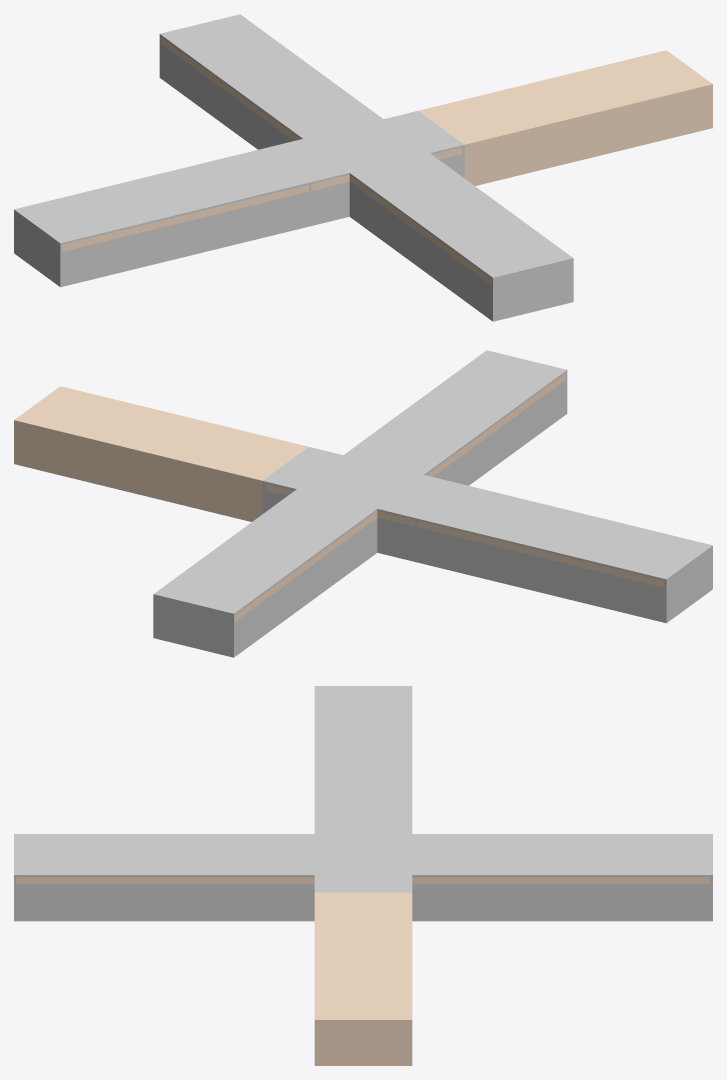
The model's file is PhaseMap.fbx.
3 views of the same model, one above another, from view 1: azimuth 30°, elevation 25°; view 2: azimuth 150°, elevation 25°; view 3: azimuth 270°, elevation 25° (orthographic). The views are drawn at different scales.
Parts seen in each view (by area): view 1: Group34, Group100, Group62, Group6, wall3, wall8, Group88, wall6, wall1, Group58, Group30, Group33 (+10 smaller); view 2: Group34, Group100, Group6, Group62, wall4, wall7, Group88, wall1, wall6, Group2, Group30, Group33 (+10 smaller); view 3: Group6, Group62, Group100, Group34, wall2, wall5, Group88, Group96, Group5, Group61, Group4, Group60 (+2 smaller).
Boxes of the visible parts, x1,y1,x2,y2 form: Group34: (14, 149, 308, 245); Group100: (418, 50, 712, 146); Group62: (349, 153, 573, 279); Group6: (159, 14, 383, 139); wall3: (62, 193, 308, 284); wall8: (464, 95, 710, 184); Group88: (263, 111, 464, 184); wall6: (349, 184, 491, 318); wall1: (160, 46, 291, 149); Group58: (492, 260, 573, 319); Group30: (14, 211, 62, 285); Group33: (62, 185, 308, 251); Group34: (418, 485, 712, 581); Group100: (14, 386, 308, 482); Group6: (153, 489, 377, 615); Group62: (343, 350, 567, 475); wall4: (418, 529, 664, 620); wall7: (16, 431, 262, 520); Group88: (262, 447, 463, 520); wall1: (235, 520, 377, 654); wall6: (435, 382, 566, 485); Group2: (153, 596, 234, 655); Group30: (664, 547, 712, 621); Group33: (418, 521, 664, 587); Group6: (412, 834, 712, 877); Group62: (14, 834, 314, 877); Group100: (314, 892, 412, 1021); Group34: (314, 686, 412, 812); wall2: (412, 886, 710, 918); wall5: (16, 886, 314, 918); Group88: (314, 813, 412, 892); Group96: (314, 1022, 412, 1063); Group5: (412, 877, 710, 884); Group61: (16, 877, 314, 884); Group4: (412, 919, 712, 921); Group60: (14, 919, 314, 921).
Size of the model in its own units: 68944 by 4438 by 60996.
